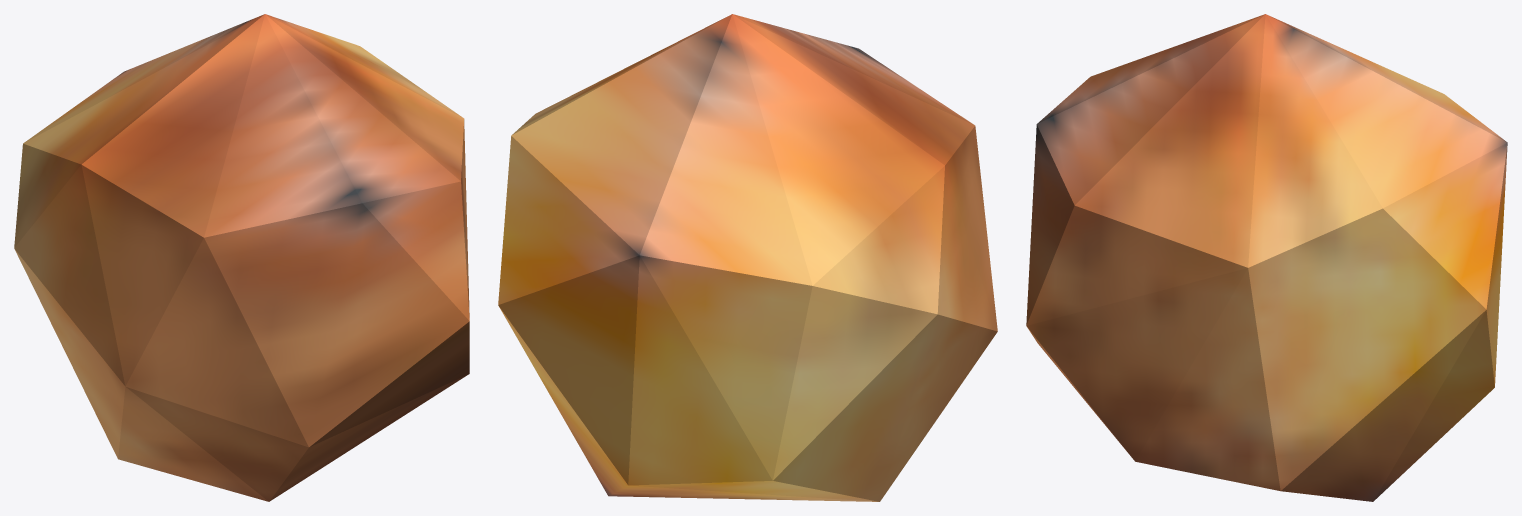
File: soup-onion.glb
3 renders of one model, left to right at view 1: azimuth 30°, elevation 25°; view 2: azimuth 150°, elevation 25°; view 3: azimuth 270°, elevation 25°, orthographic. The views are drawn at different scales.
Visible parts, largest first — view 1: soup-onion; view 2: soup-onion; view 3: soup-onion.
Boxes of the visible parts, x1,y1,x2,y2 form: soup-onion: [14, 14, 469, 501]; soup-onion: [498, 14, 997, 501]; soup-onion: [1026, 14, 1507, 501].
Size of the model in its own units: 0.2025 by 0.203 by 0.1924.
1 material, 1 textured.
